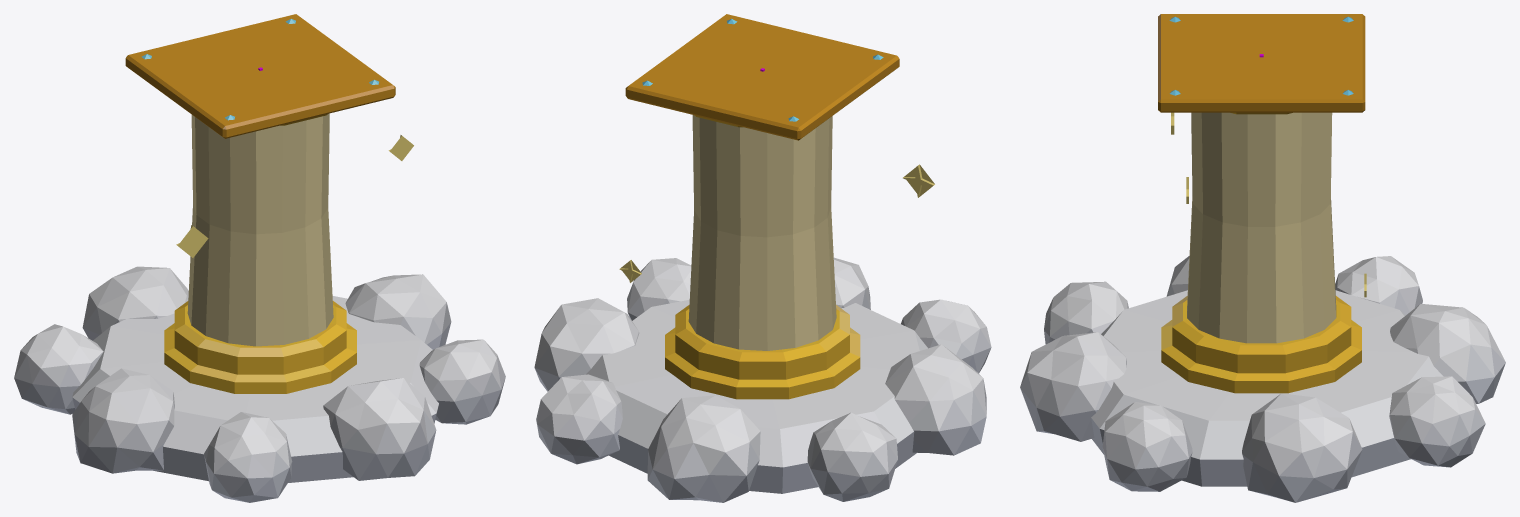
Rendered from Platform_CheemsGod.fbx.
3 renders of one model, left to right at view 1: azimuth 30°, elevation 25°; view 2: azimuth 150°, elevation 25°; view 3: azimuth 270°, elevation 25°, orthographic. The views are drawn at different scales.
Parts seen in each view (by area): view 1: Body; view 2: Body; view 3: Body.
Part boxes in pixels (x1,y1,x2,y2): Body: (14,14,505,502); Body: (534,14,991,502); Body: (1020,14,1505,502).
Size of the model in its own units: 12.85 by 10.6 by 13.11.
